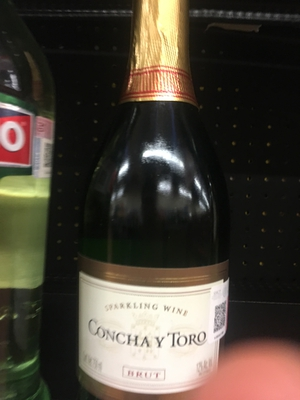brut: (80, 19, 235, 400)
